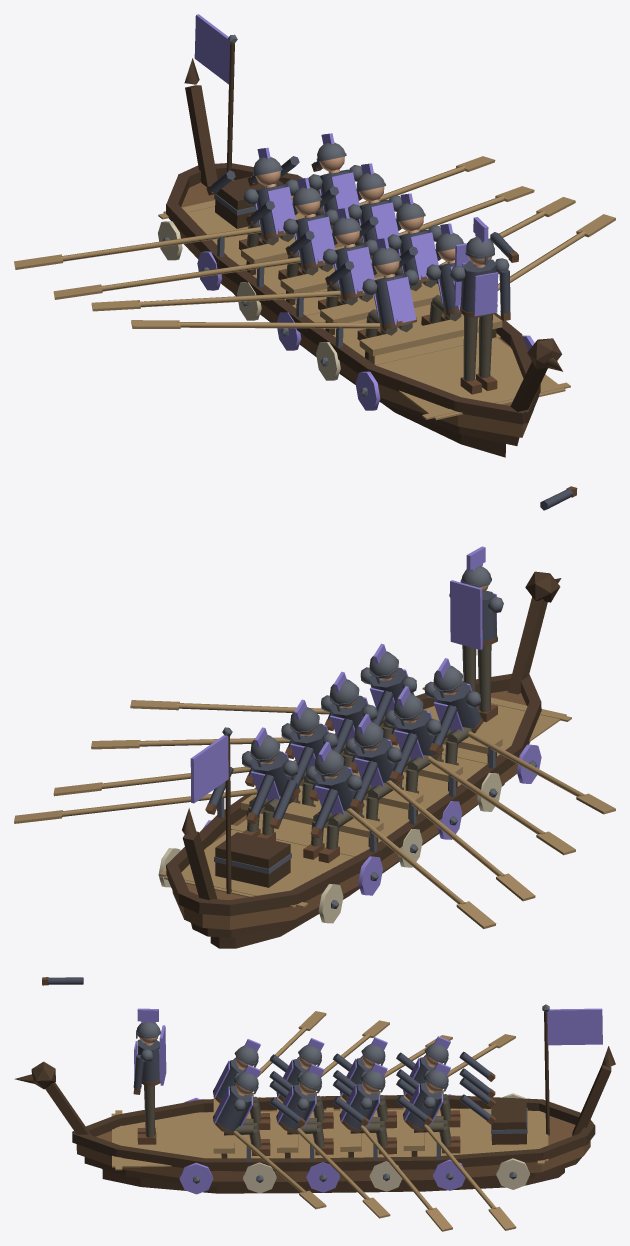
Rendered from Boat.glb.
3 renders of one model, top to bottom at view 1: azimuth 30°, elevation 25°; view 2: azimuth 150°, elevation 25°; view 3: azimuth 270°, elevation 25°, orthographic. The views are drawn at different scales.
Parts seen in each view (by area): view 1: deck, oar_shaft (×6), gunwale (×5), tabard_back (×7), thwart (×4), hull, shield (×4), torso (×3), stern, leg (×2), banner, sea_chest (+6 smaller); view 2: deck, oar_shaft (×8), gunwale (×6), torso (×6), hull, sea_chest, cape, banner, prow, shield (×2), thwart, stern (+5 smaller); view 3: gunwale (×11), deck, shield (×6), hull, torso (×6), keel, thwart (×4), oar_shaft (×4), banner, hull_lower, sea_chest, stern (+5 smaller).
Part boxes in pixels (box(x1,y1,x2,y2)): deck: box(163, 195, 565, 420); oar_shaft (×6): box(60, 166, 504, 328); gunwale (×5): box(166, 202, 525, 424); tabard_back (×7): box(267, 172, 438, 324); thwart (×4): box(241, 229, 502, 356); hull: box(176, 179, 533, 437); shield (×4): box(158, 221, 380, 410); torso (×3): box(374, 259, 496, 329); stern: box(185, 85, 217, 187); leg (×2): box(463, 313, 492, 381); banner: box(194, 14, 230, 84); sea_chest: box(215, 177, 283, 228); deck: box(164, 697, 566, 907); oar_shaft (×8): box(59, 703, 585, 904); gunwale (×6): box(166, 702, 540, 915); torso (×6): box(250, 590, 497, 811); hull: box(172, 690, 529, 929); sea_chest: box(215, 832, 290, 887); cape: box(450, 580, 482, 649); banner: box(190, 735, 228, 803); prow: box(507, 597, 547, 694); shield (×2): box(318, 856, 382, 923); thwart: box(241, 794, 383, 837); stern: box(182, 831, 217, 900); gunwale (×11): box(72, 1095, 587, 1171); deck: box(111, 1108, 548, 1167); shield (×6): box(179, 1158, 529, 1194); hull: box(76, 1108, 590, 1181); torso (×6): box(137, 1039, 441, 1135); keel: box(102, 1168, 564, 1193); thwart (×4): box(213, 1094, 424, 1153); oar_shaft (×4): box(233, 1124, 496, 1209); banner: box(547, 1008, 602, 1045); hull_lower: box(84, 1157, 581, 1186); sea_chest: box(491, 1100, 526, 1144); stern: box(572, 1064, 611, 1135).
Bounding box in the file's own units: 6.35 × 3.02 × 8.55.
